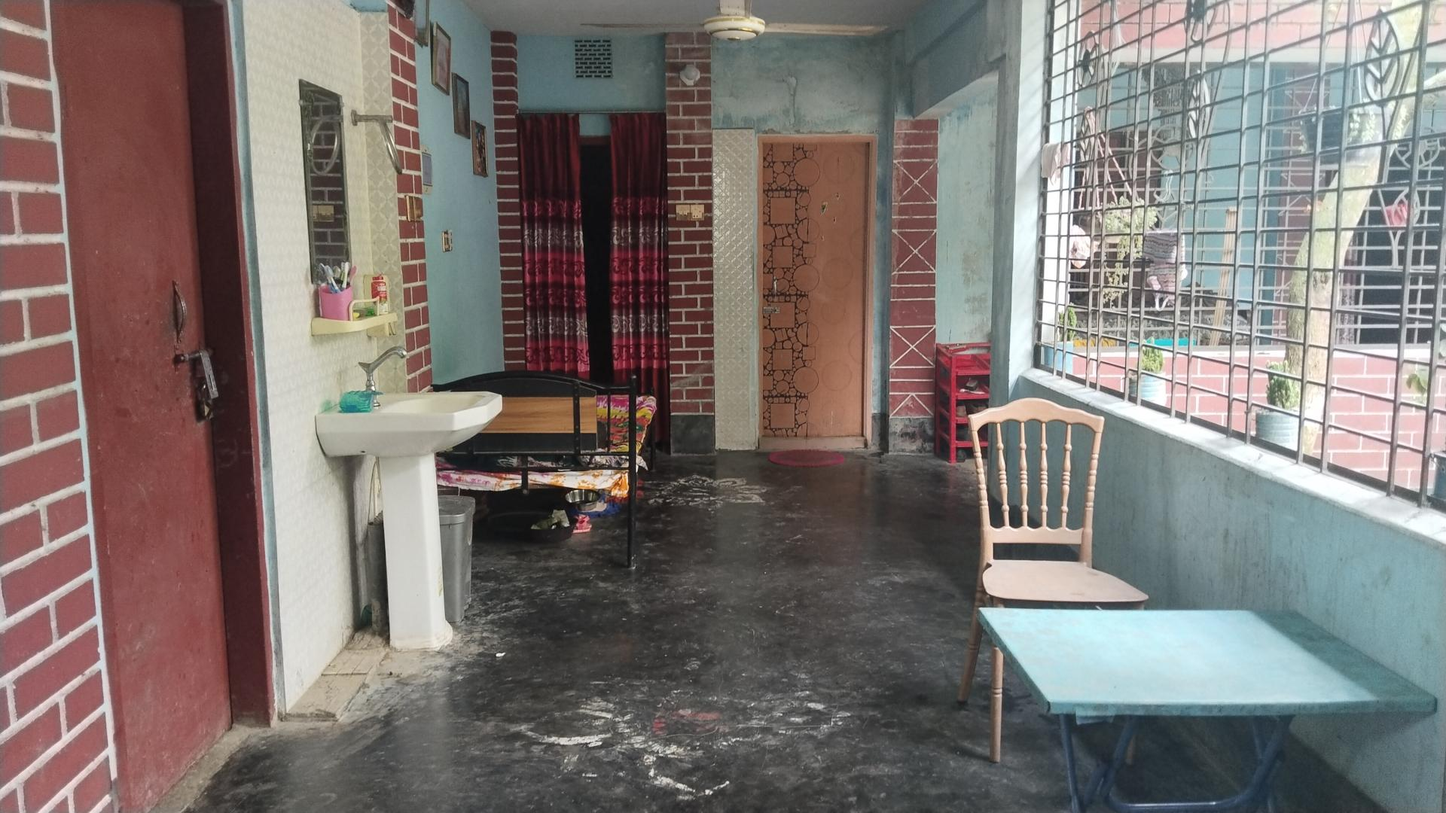Chair: (970, 402, 1142, 732)
Door: (752, 144, 866, 439)
Table: (977, 601, 1446, 813)
